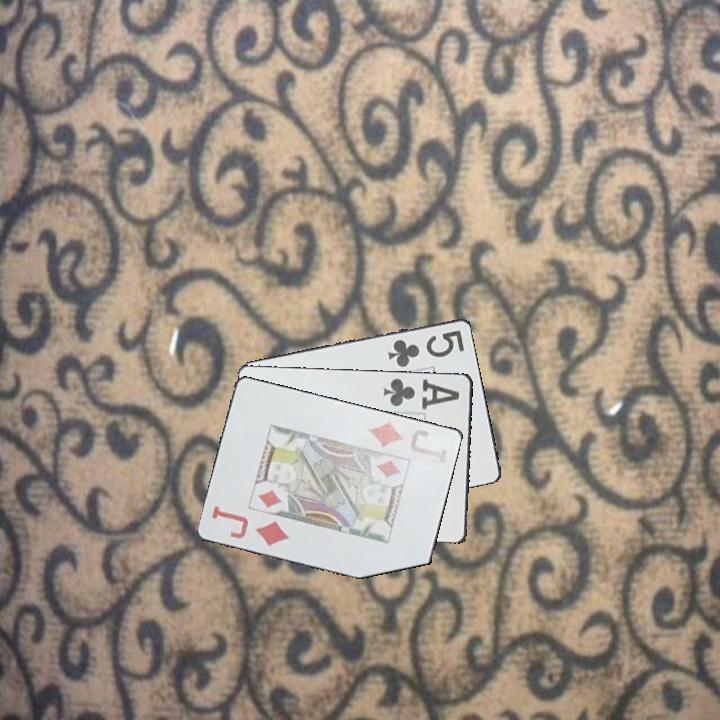5c: (385, 326, 468, 370)
Ac: (380, 373, 462, 412)
Jd: (366, 416, 454, 465), (208, 502, 293, 549)
